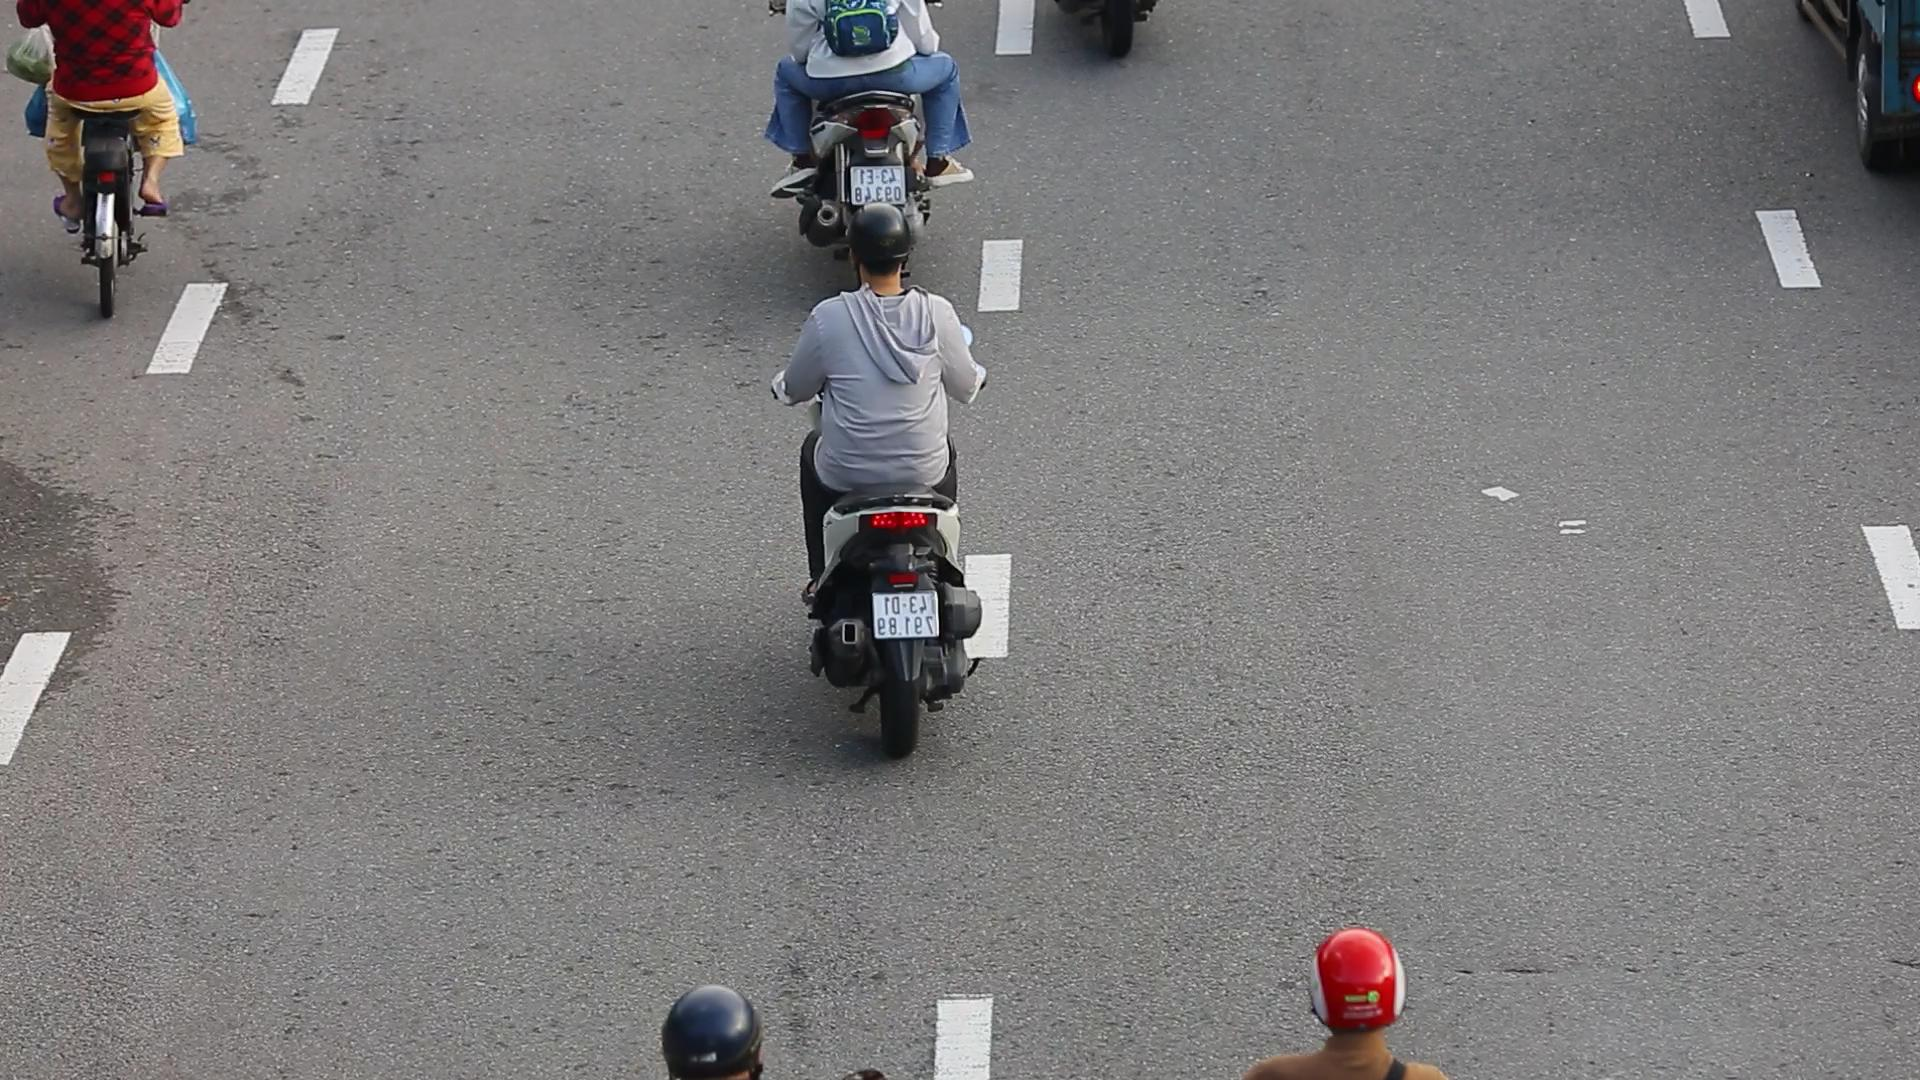motobike: (775, 208, 993, 749)
